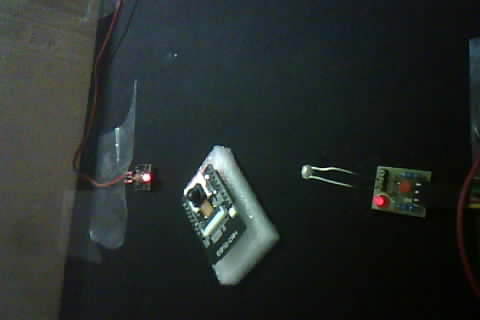esp32: (178, 146, 272, 278)
